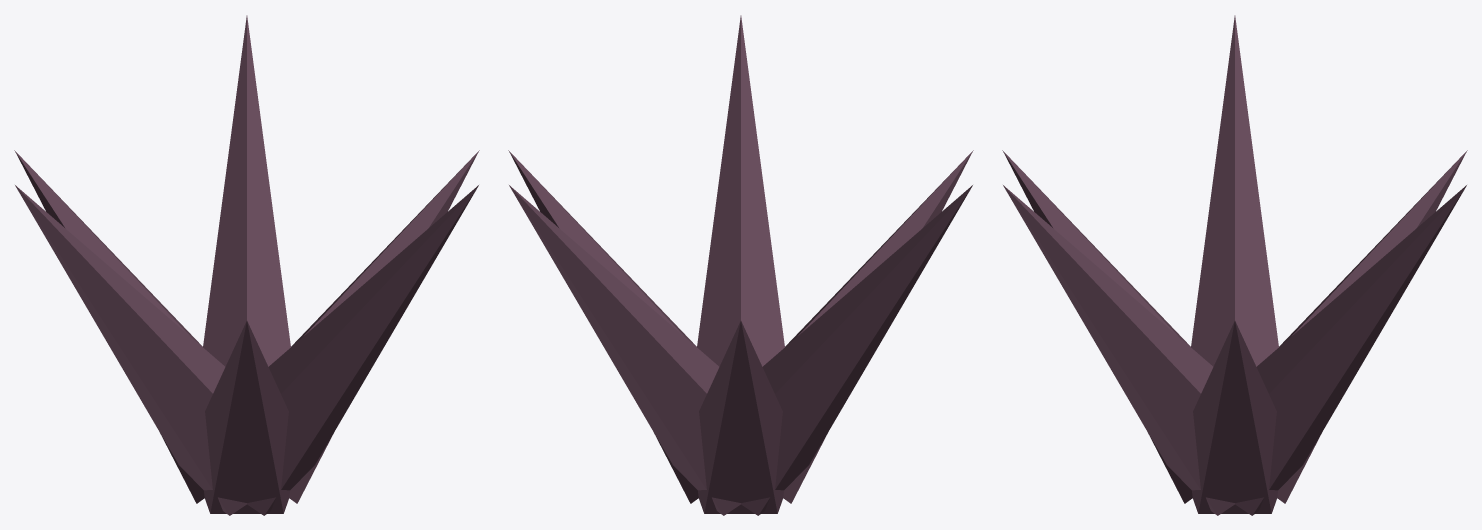
Rendered from pg_thorns.fbx.
3 views of the same model, side by side, from view 1: azimuth 30°, elevation 25°; view 2: azimuth 150°, elevation 25°; view 3: azimuth 270°, elevation 25° (orthographic).
Parts seen in each view (by area): view 1: GEO-Thorn.003, GEO-Thorn.005, GEO-Thorn.001, GEO-Thorn.004, GEO-Thorn, GEO-Thorn.002; view 2: GEO-Thorn.001, GEO-Thorn.003, GEO-Thorn.005, GEO-Thorn.002, GEO-Thorn, GEO-Thorn.004; view 3: GEO-Thorn.001, GEO-Thorn.005, GEO-Thorn.003, GEO-Thorn, GEO-Thorn.002, GEO-Thorn.004.
Boxes of the visible parts, left/top/right/bottom form: GEO-Thorn.003: left=15, top=185, right=246, bottom=515; GEO-Thorn.005: left=247, top=185, right=478, bottom=515; GEO-Thorn.001: left=203, top=15, right=290, bottom=366; GEO-Thorn.004: left=204, top=321, right=289, bottom=513; GEO-Thorn: left=289, top=150, right=479, bottom=503; GEO-Thorn.002: left=14, top=150, right=204, bottom=503; GEO-Thorn.001: left=509, top=185, right=740, bottom=515; GEO-Thorn.003: left=741, top=185, right=972, bottom=515; GEO-Thorn.005: left=697, top=15, right=784, bottom=366; GEO-Thorn.002: left=698, top=321, right=783, bottom=513; GEO-Thorn: left=508, top=150, right=698, bottom=503; GEO-Thorn.004: left=783, top=150, right=973, bottom=503; GEO-Thorn.001: left=1235, top=185, right=1466, bottom=515; GEO-Thorn.005: left=1003, top=185, right=1234, bottom=515; GEO-Thorn.003: left=1191, top=15, right=1278, bottom=366; GEO-Thorn: left=1192, top=321, right=1277, bottom=513; GEO-Thorn.002: left=1277, top=150, right=1467, bottom=503; GEO-Thorn.004: left=1002, top=150, right=1192, bottom=503.
Bounding box in the file's own units: 86 × 65.52 × 74.48.
